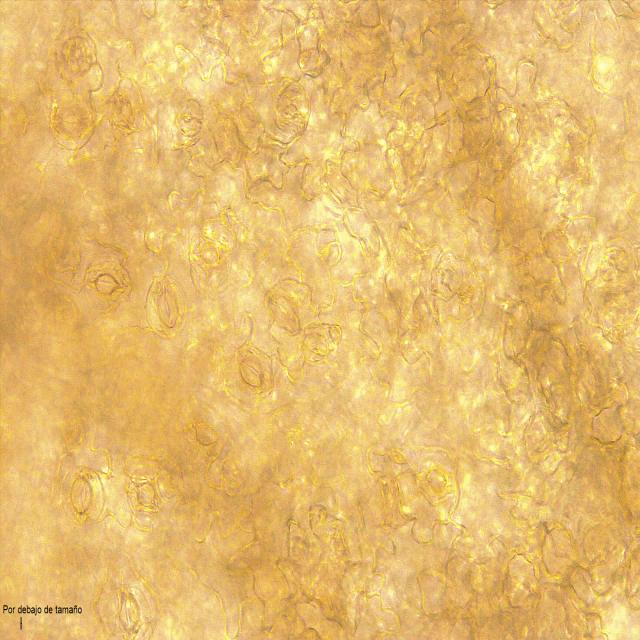Stomata: (124, 463, 176, 523), (47, 91, 97, 150), (144, 274, 189, 339), (82, 258, 134, 312), (61, 465, 105, 527), (414, 451, 463, 506), (230, 344, 276, 399), (106, 585, 152, 640), (188, 227, 231, 278), (172, 97, 205, 141)
